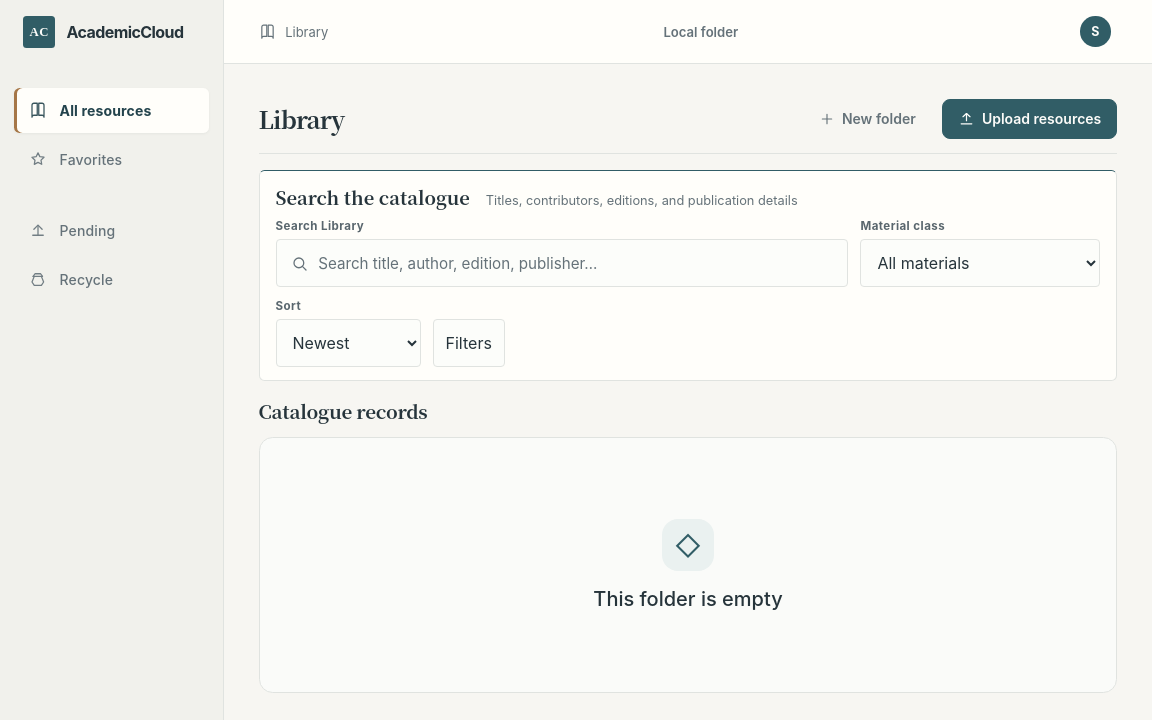
App › hides archived Members by default and makes archive/unarchive a disabled-only Owner workflow
Expected: the heading "Library" is shown, [258,103,344,134]
Click the button named "Account menu". click: coordinates (1095, 32)
box: [1073,10,1117,54]
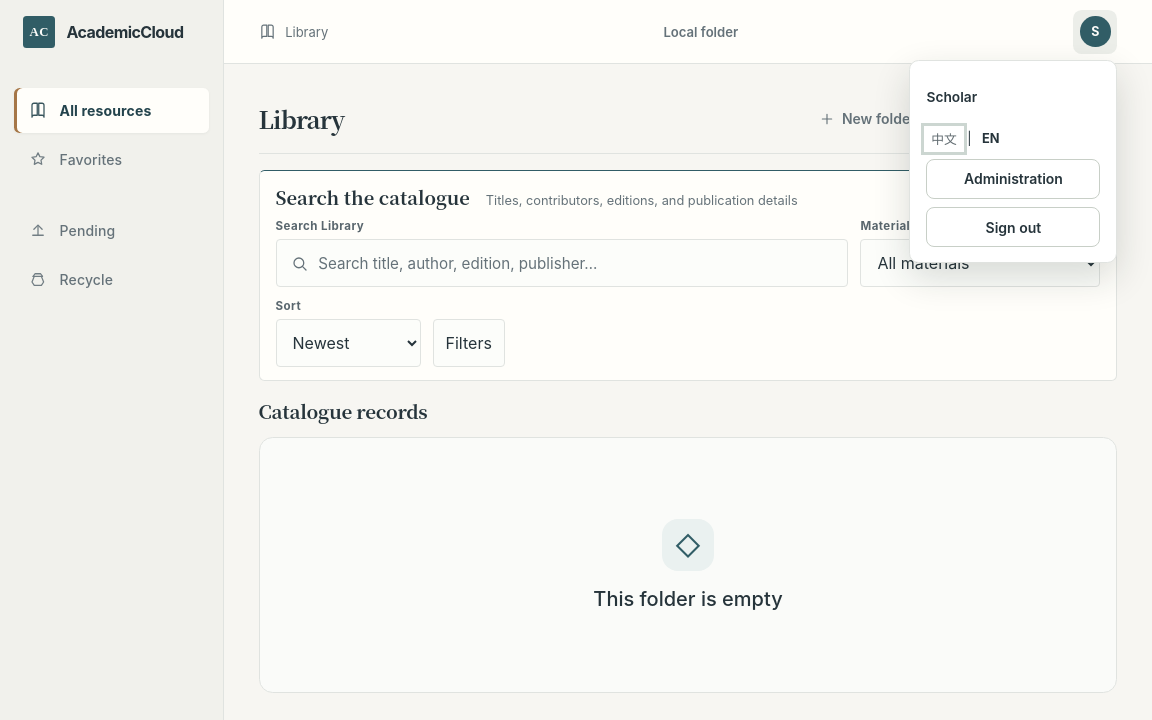
Click the menu item "Administration". click: coordinates (1013, 179)
box: [926,159,1100,199]
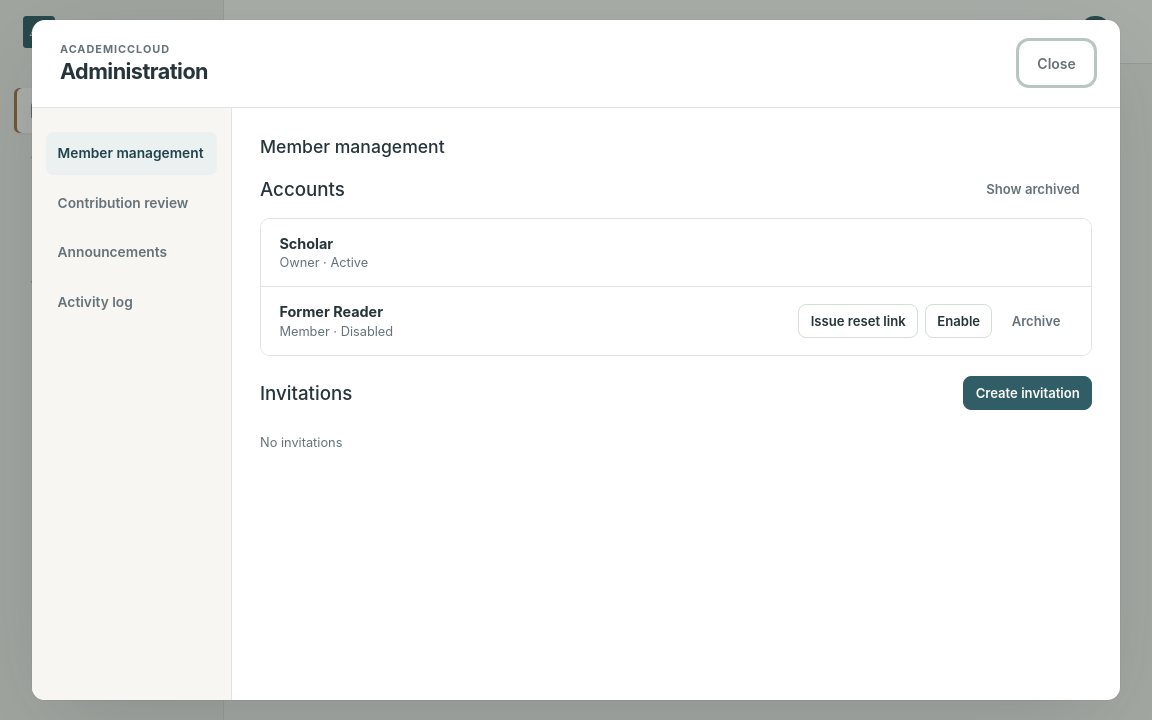
Expected: the text "Archived Reader" is not shown
Now the text "Former Reader" is shown, box [279,304,393,320]
Click the button "Archive". click: coordinates (1036, 321)
box: [1000,304,1073,338]
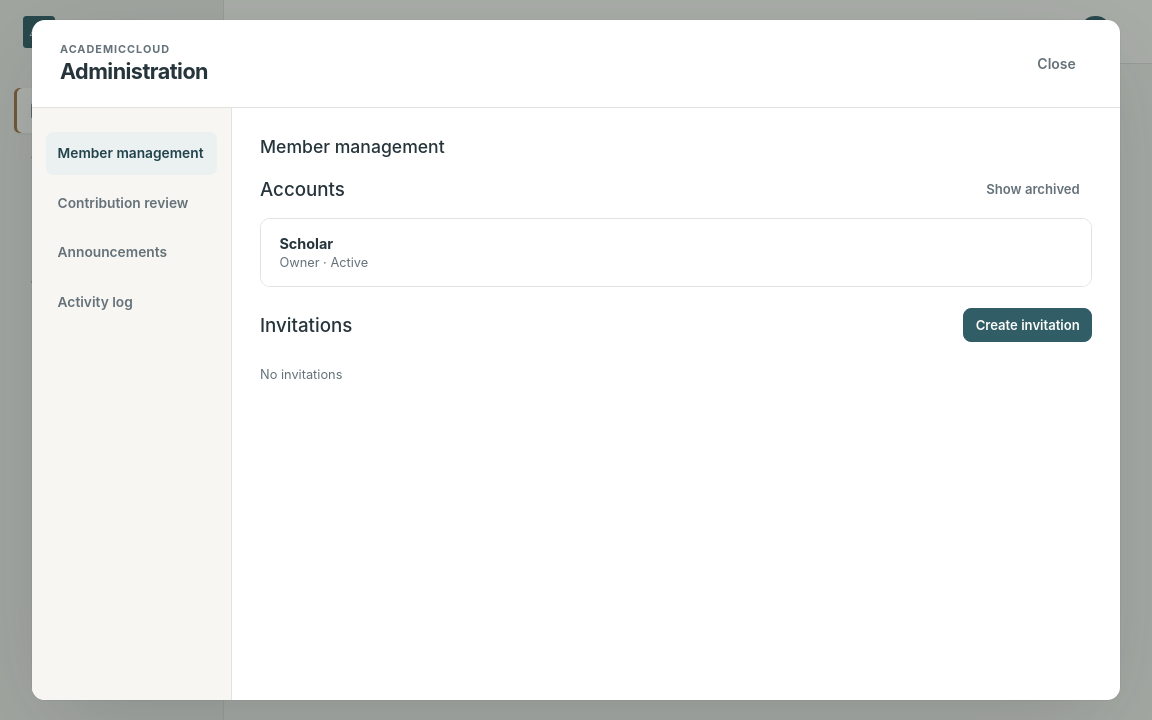
Now the text "Former Reader" is gone
Click the button "Show archived". click: coordinates (1033, 190)
box: [974,173,1092,206]
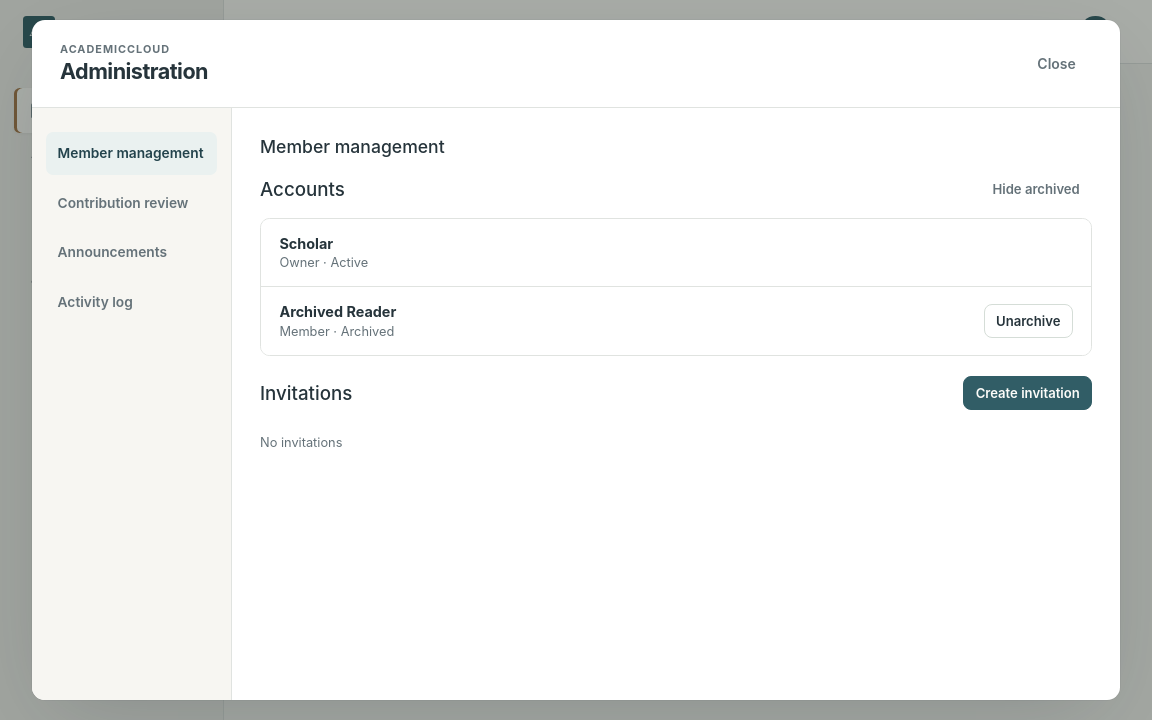
Now the text "Archived Reader" is shown, box [279,304,396,320]
Click the button "Unarchive". click: coordinates (1028, 321)
box: [984,304,1073,338]
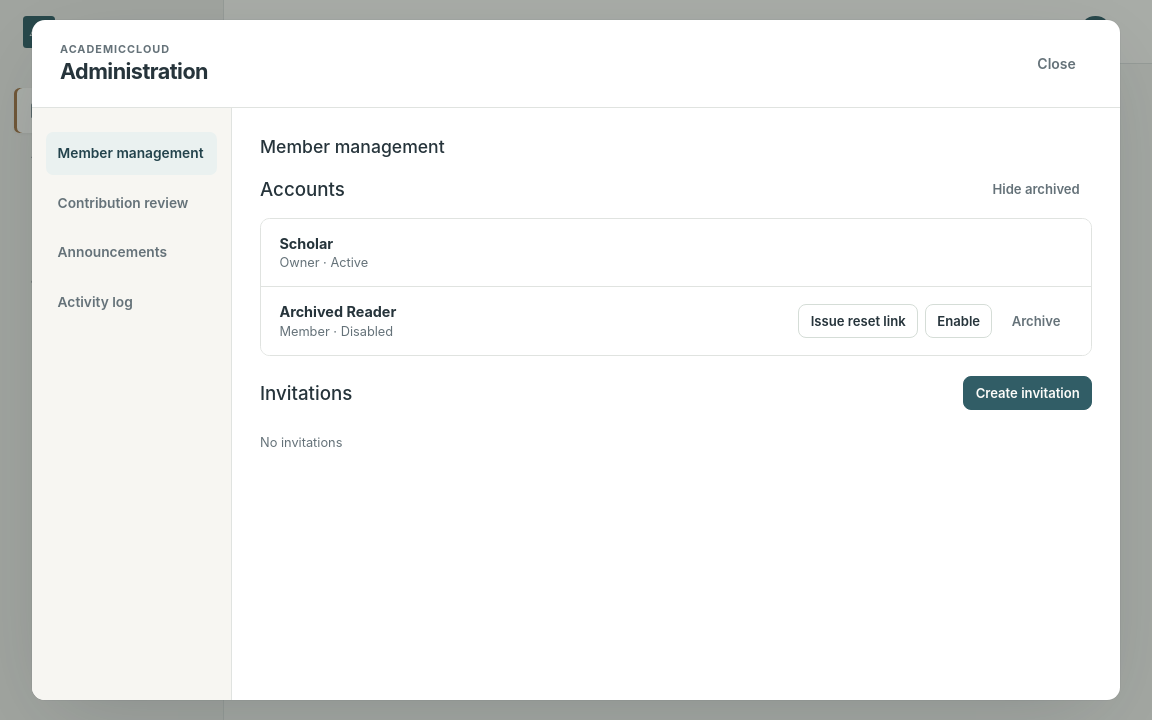
Now the button "Archive" is shown, box [1000,304,1073,338]
Now the text "Member · Disabled" is shown, box [279,324,396,339]
Now the button "Enable" is shown, box [925,304,992,338]
